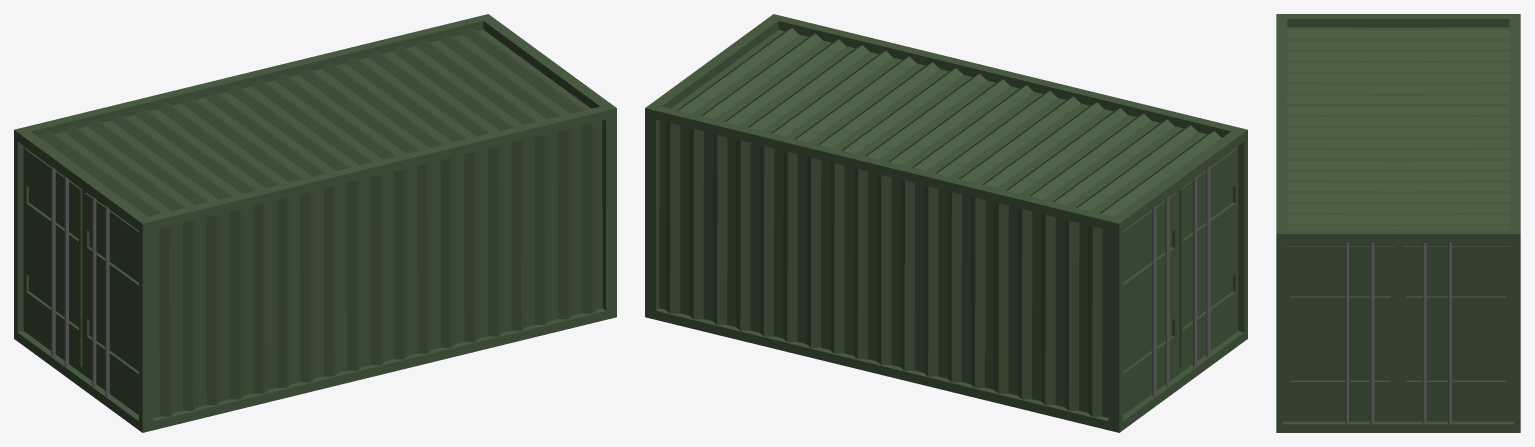
The model's file is Container.glb.
The picture shows the model from 3 angles, left to right: view 1: azimuth 30°, elevation 25°; view 2: azimuth 150°, elevation 25°; view 3: azimuth 270°, elevation 25°; orthographic projection. The views are drawn at different scales.
Parts seen in each view (by area): view 1: Container; view 2: Container; view 3: Container.
Boxes of the visible parts, x1=… form: Container: x1=14, y1=14, x2=616, y2=432; Container: x1=645, y1=14, x2=1247, y2=432; Container: x1=1276, y1=14, x2=1520, y2=432.
Size of the model in its own units: 3.85 by 1.62 by 1.81.
